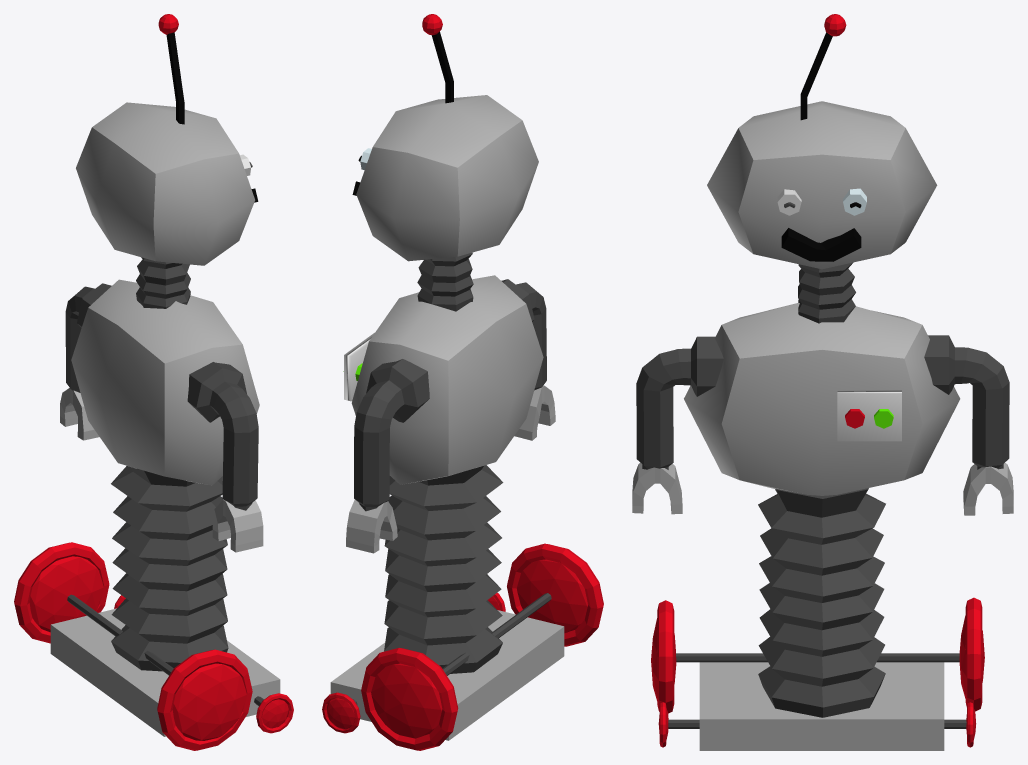
The model's file is Ship Bot.fbx.
3 views of the same model, side by side, from view 1: azimuth 30°, elevation 25°; view 2: azimuth 150°, elevation 25°; view 3: azimuth 270°, elevation 25° (orthographic). The views are drawn at different scales.
Visible parts, largest first — view 1: Cylinder.002; view 2: Cylinder.002, Cube.010; view 3: Cylinder.002, Cube.010.
Boxes of the visible parts, x1=… form: Cylinder.002: x1=14, y1=14, x2=293, y2=750; Cylinder.002: x1=322, y1=14, x2=603, y2=750; Cube.010: x1=344, y1=332, x2=374, y2=401; Cylinder.002: x1=632, y1=14, x2=1013, y2=750; Cube.010: x1=837, y1=390, x2=901, y2=441.
Bounding box in the file's own units: 118 × 481 × 232.
